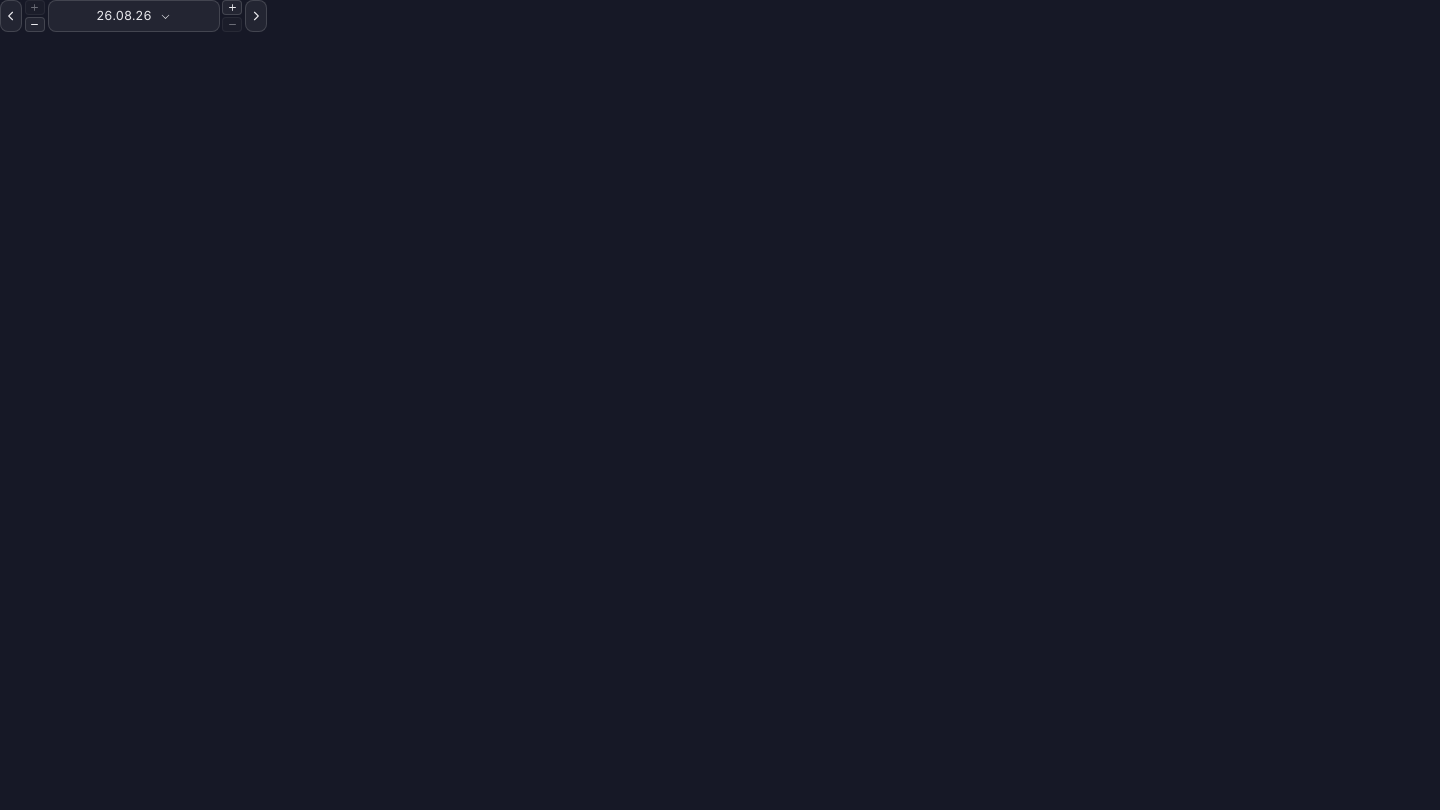
Test: DateRangeFilter › stops `latest` at the batch the desk has reached
The image size is (1440, 810).
Check: the button "26.08.26" is shown, box [48,0,220,32]
Click the button named "whole range one batch later": (256, 16) [245,0,267,32]
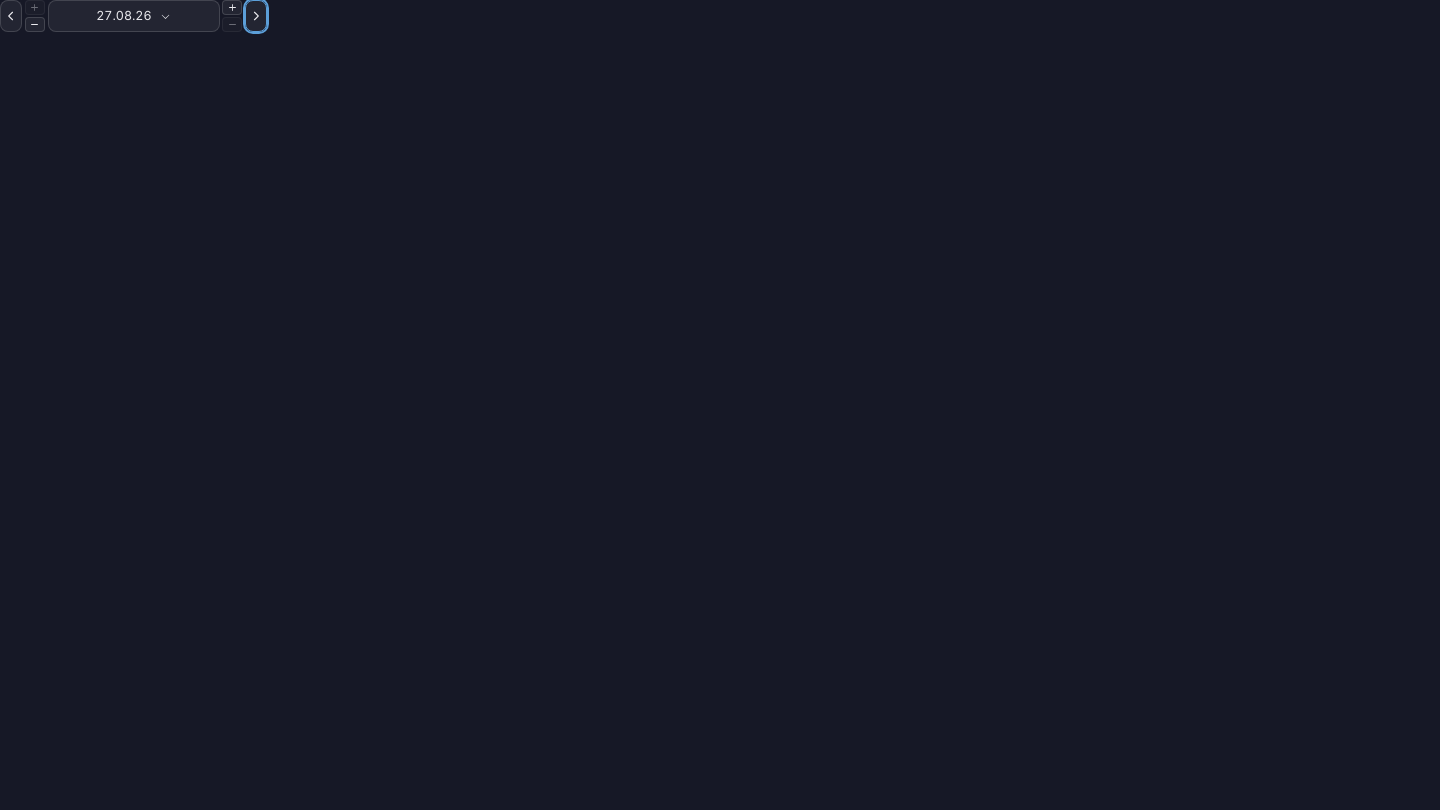
Check: the button "27.08.26" is shown
Click the button "27.08.26": (134, 16) [48,0,220,32]
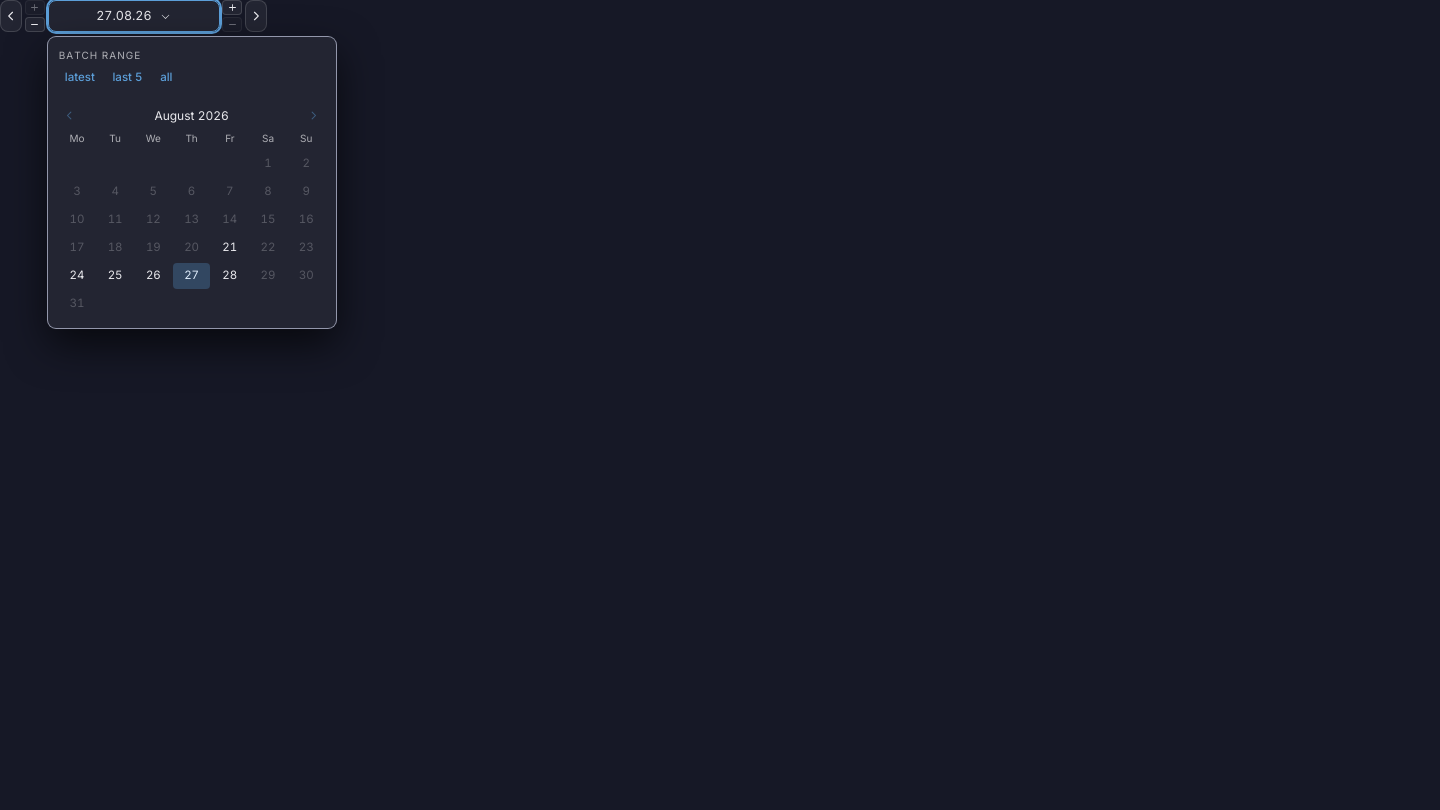
Click the button "all": (166, 78) [154,69,178,87]
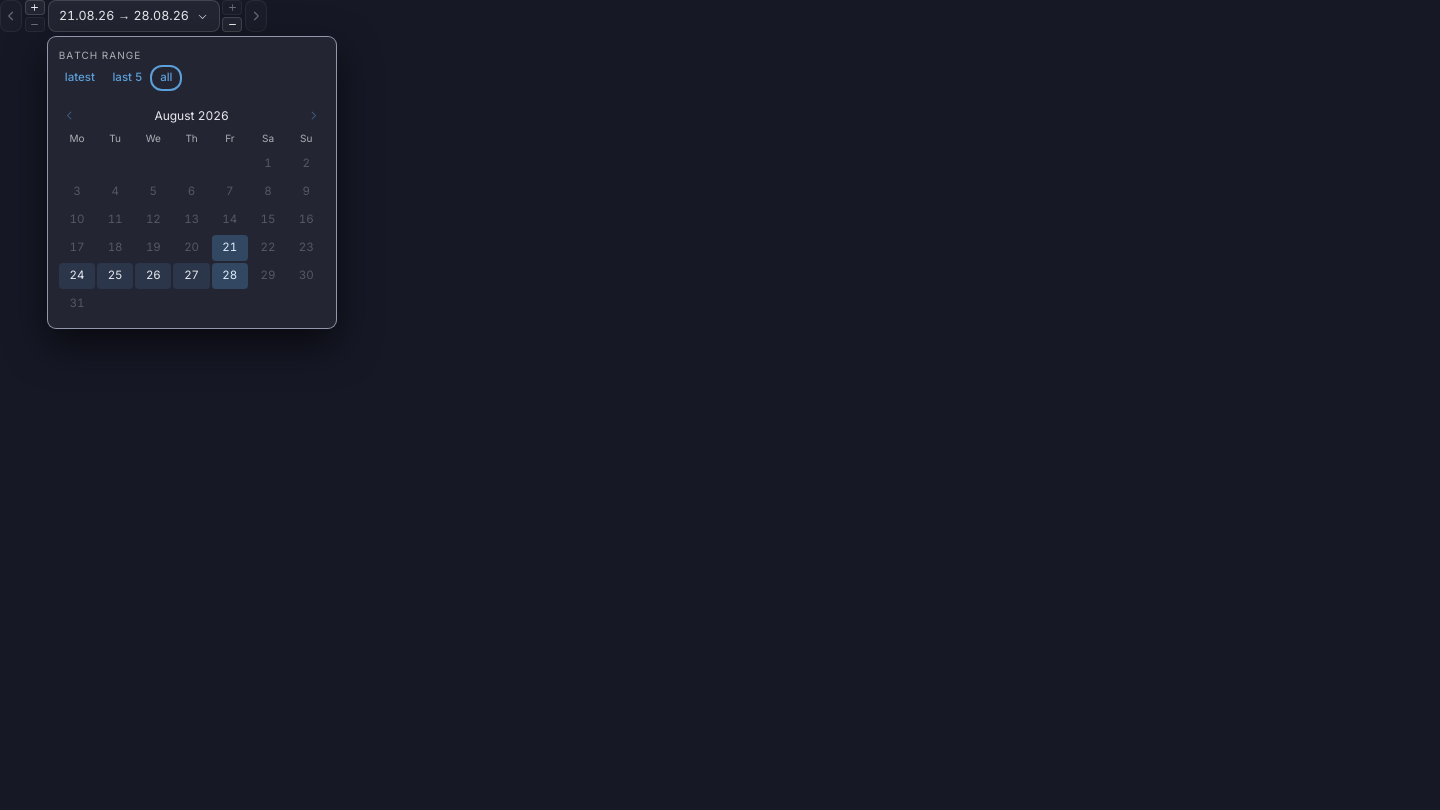
Check: the button "21.08.26 → 28.08.26" is shown, box [48,0,220,32]
Click the button "latest": (80, 78) [59,69,101,87]
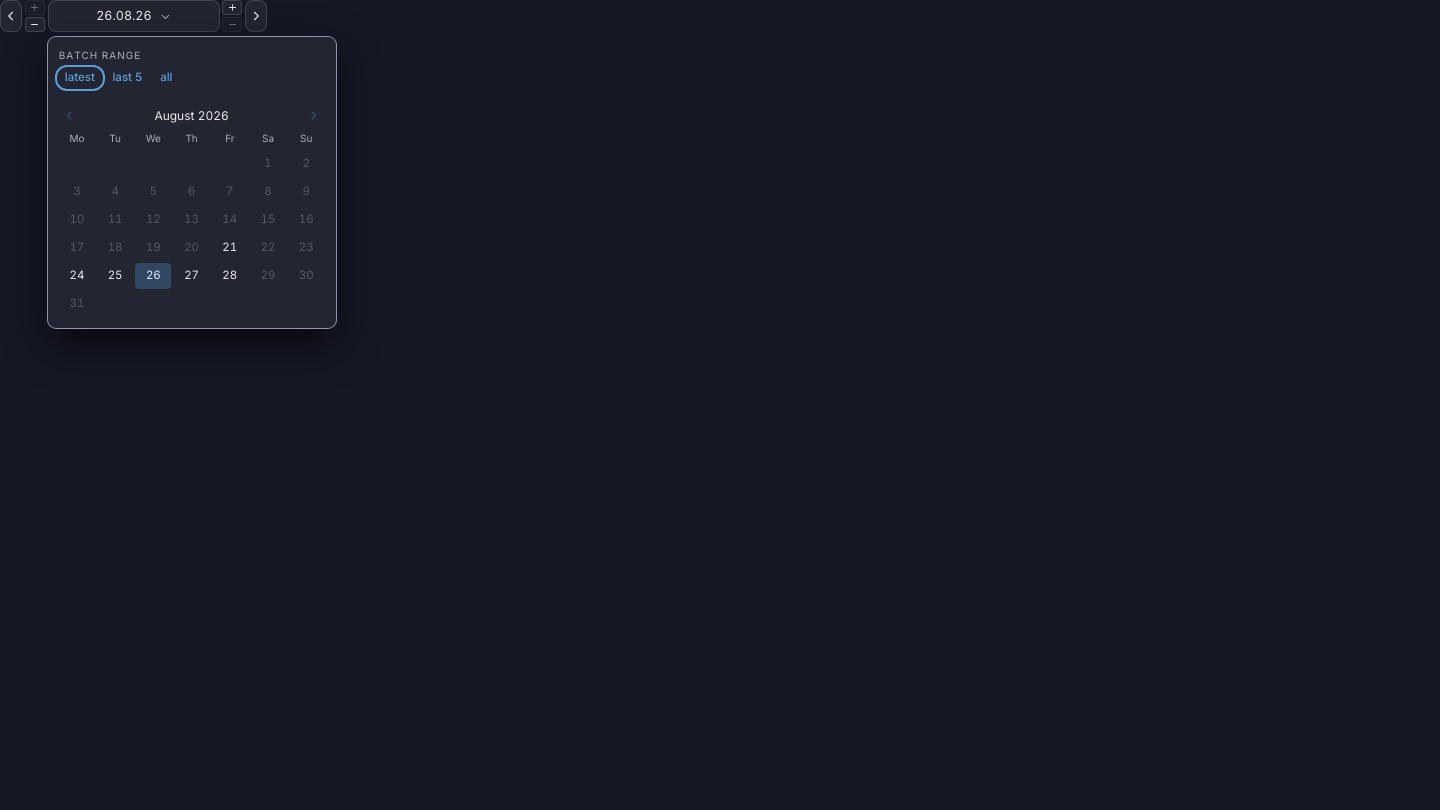
Check: the button "26.08.26" is shown, box [48,0,220,32]
